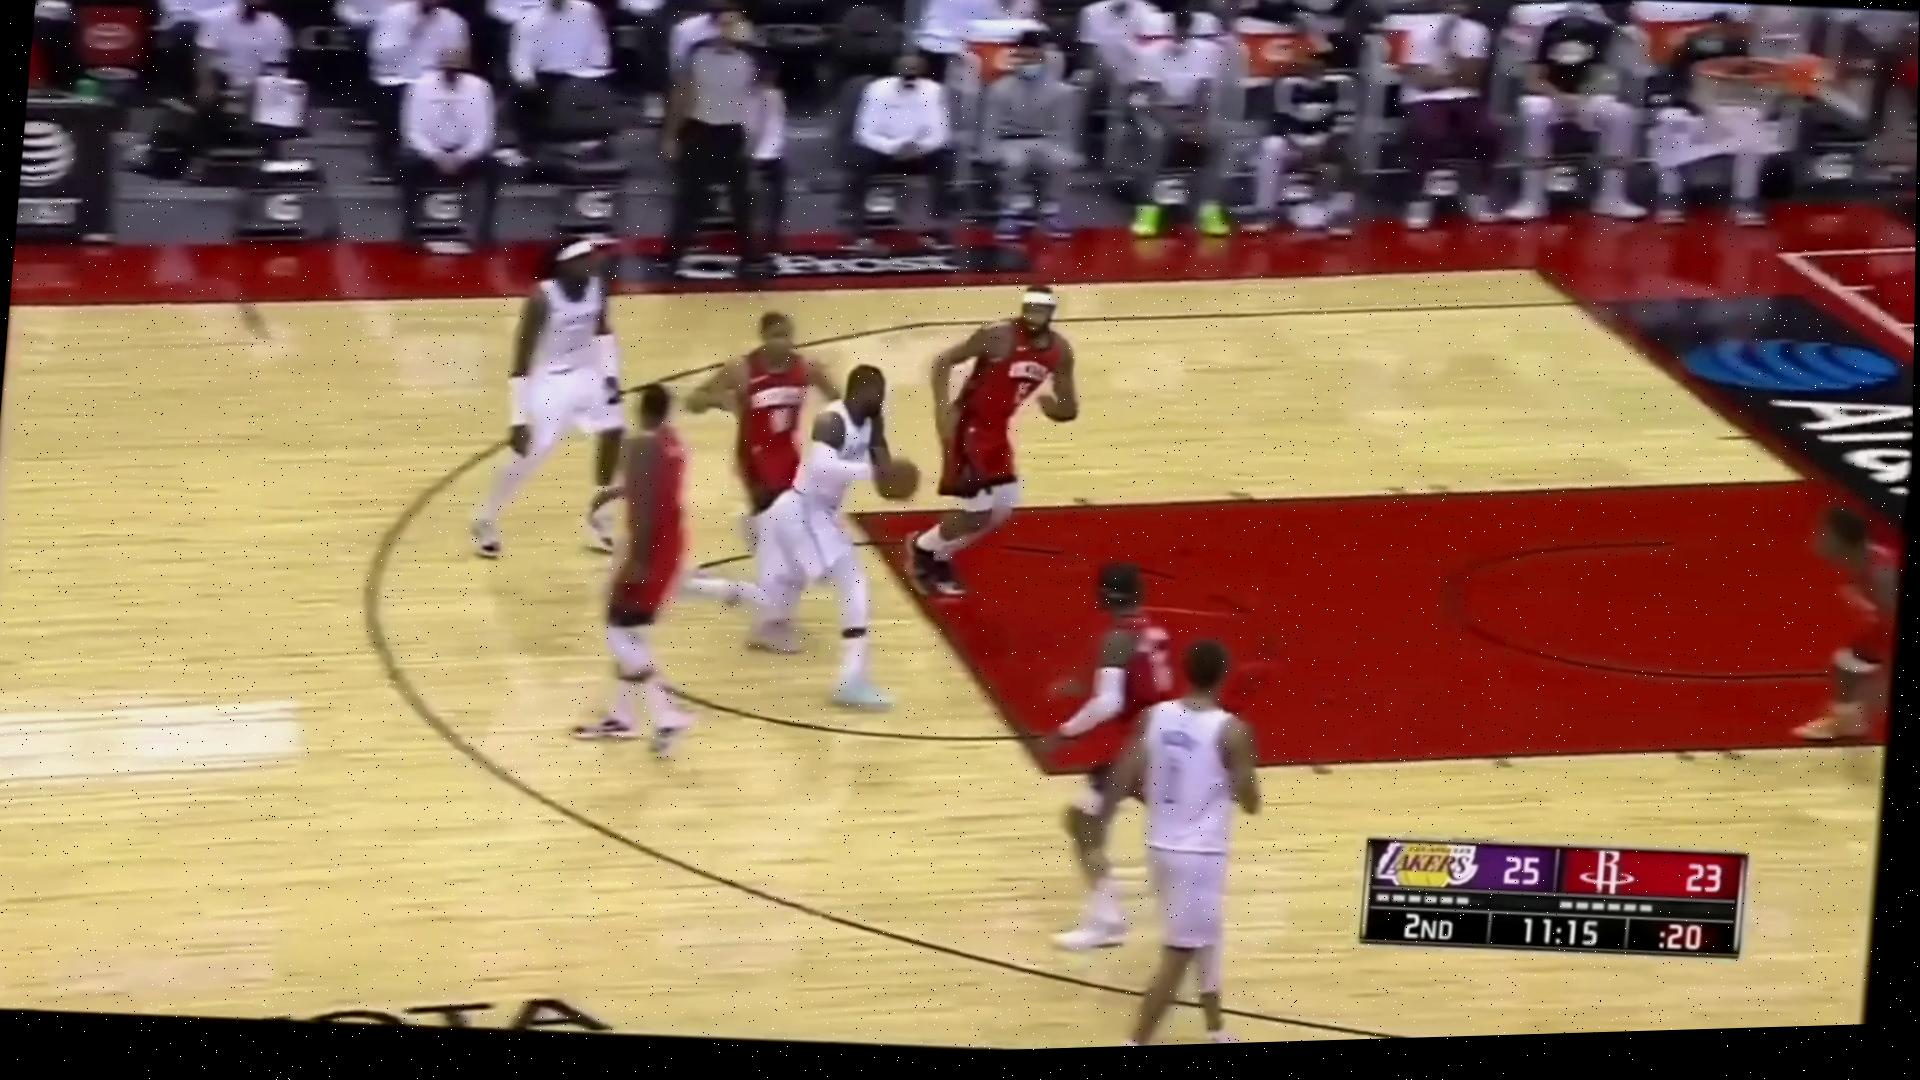no_foul: (666, 278, 967, 699)
